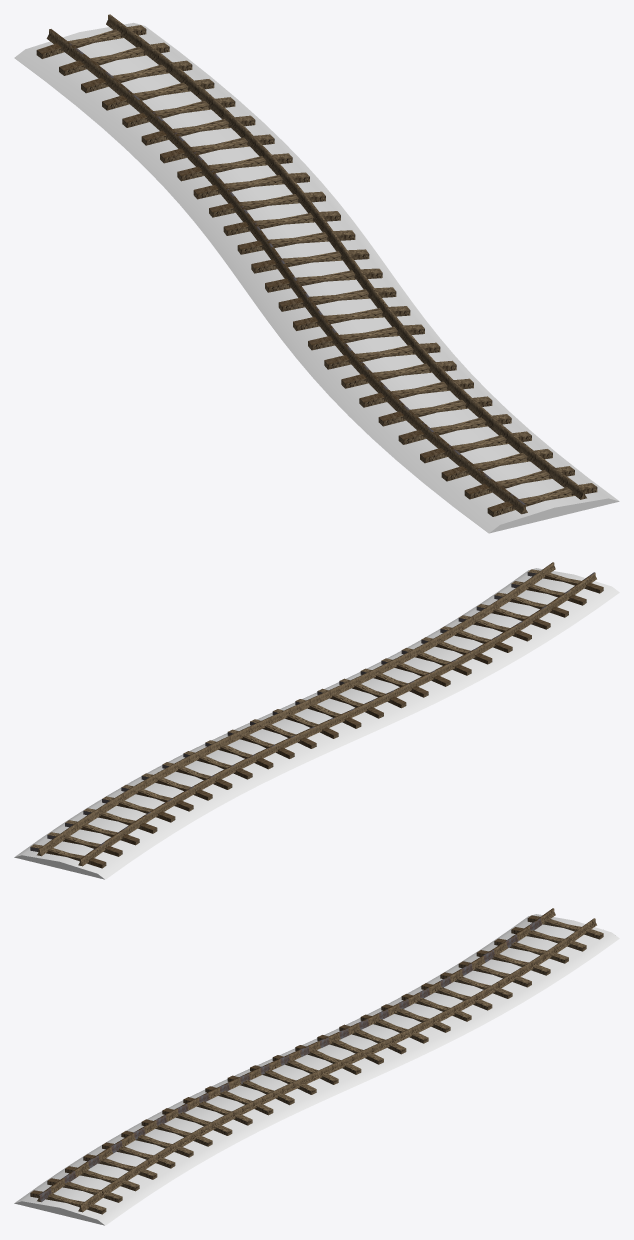
The model's file is Rail bend to right_LOD1.fbx.
3 renders of one model, top to bottom at view 1: azimuth 30°, elevation 25°; view 2: azimuth 150°, elevation 25°; view 3: azimuth 330°, elevation 25°, orthographic. The views are drawn at different scales.
Parts seen in each view (by area): view 1: Rail_bend_to_right_LOD1; view 2: Rail_bend_to_right_LOD1; view 3: Rail_bend_to_right_LOD1.
Part boxes in pixels (left/top/right/bottom): Rail_bend_to_right_LOD1: left=14, top=14, right=619, bottom=533; Rail_bend_to_right_LOD1: left=14, top=562, right=619, bottom=879; Rail_bend_to_right_LOD1: left=14, top=908, right=619, bottom=1225.
Size of the model in its own units: 2 by 0.1466 by 8.
